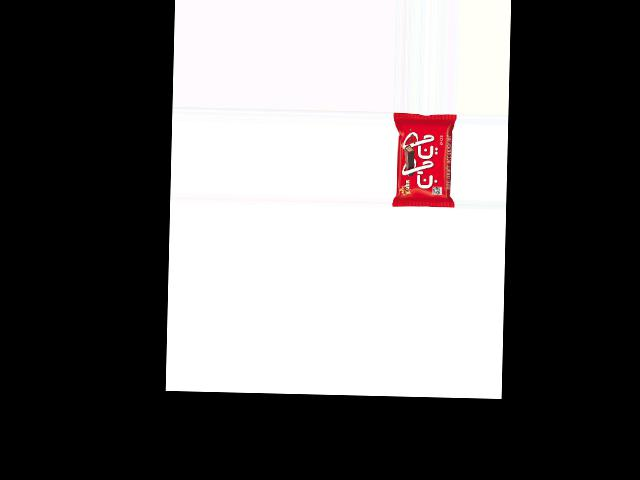chocolate: (391, 113, 457, 207)
